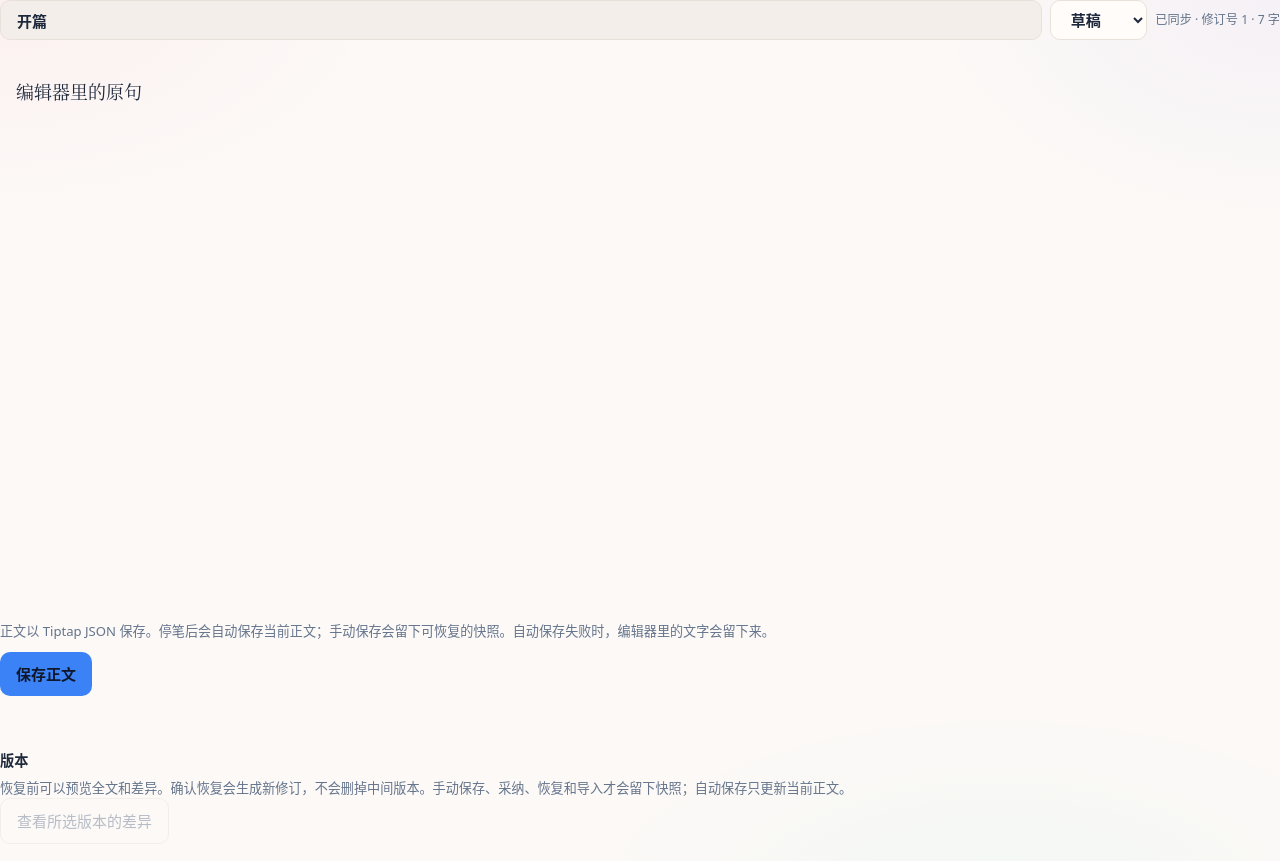
Test: ChapterEditor › keeps the local draft and compares it when autosave conflicts
The image size is (1280, 861).
Replace the text in the field named "章节标题" with "本地标题" at (521, 20), box [0, 0, 1042, 40]
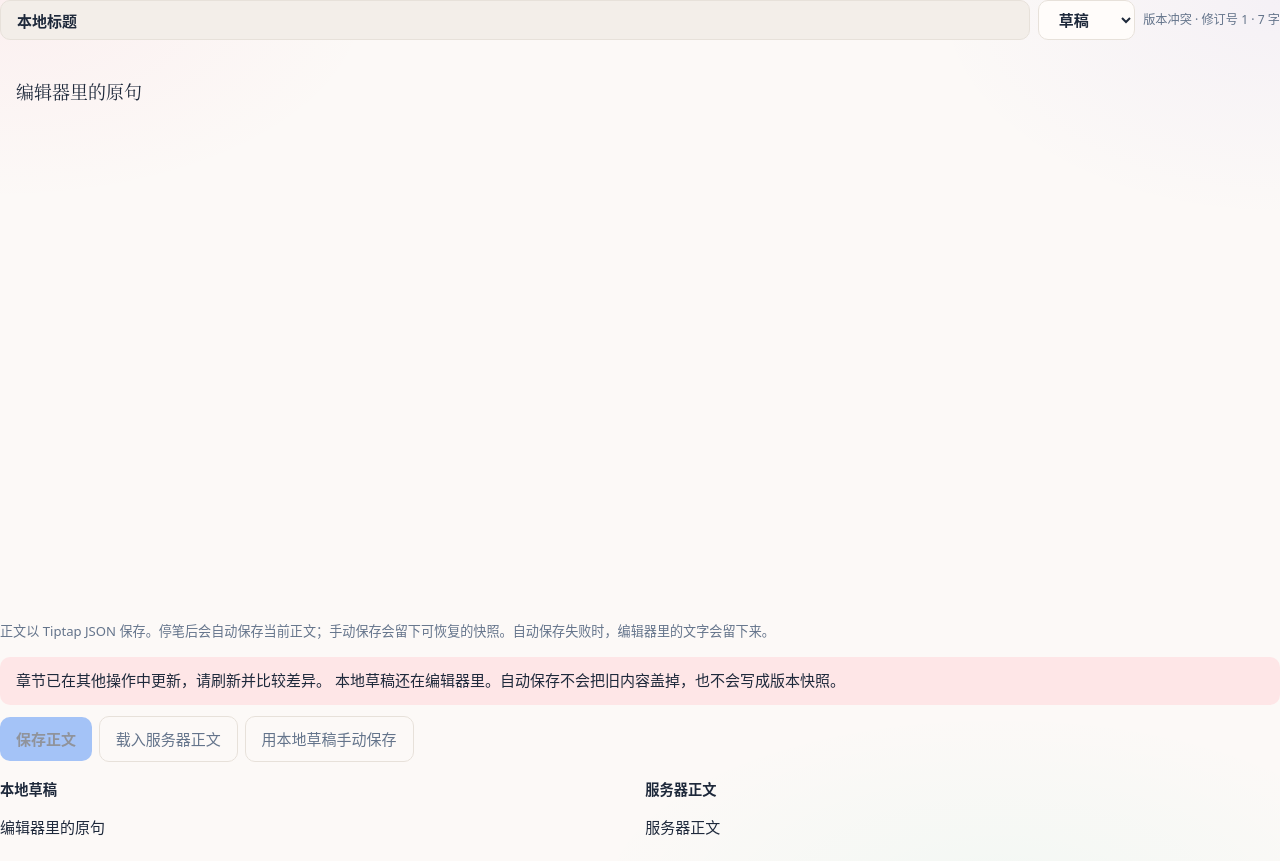
Expected: the field named "正文" reads "编辑器里的原句", [16, 78, 142, 104]
Now the message "章节已在其他操作中更新，请刷新并比较差异。 本地草稿还在编辑器里。自动保存不会把旧内容盖掉，也不会写成版本快照。" is shown, box [0, 657, 1279, 705]
Now the heading "服务器正文" is shown, box [645, 780, 717, 799]
Click the button "用本地草稿手动保存" at (329, 739), box [244, 716, 414, 762]
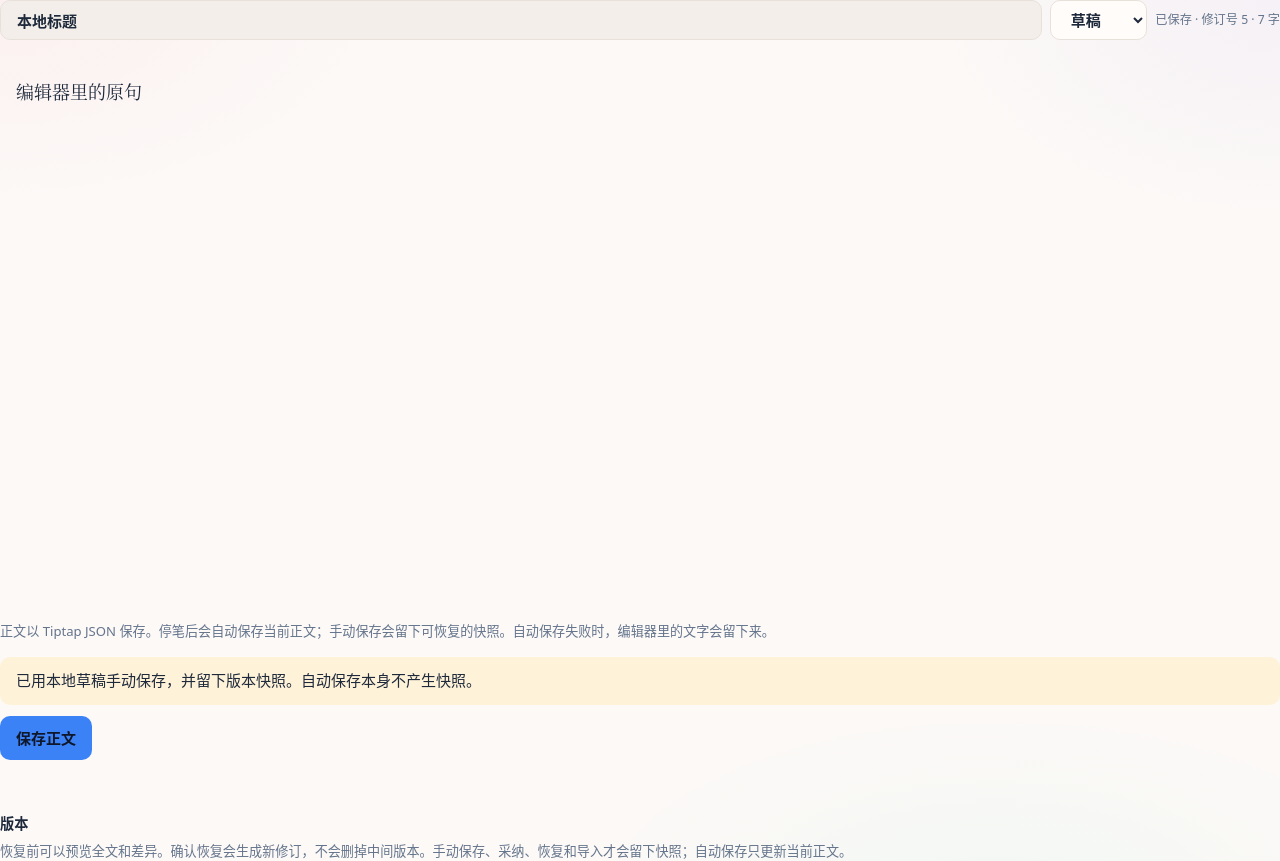
Now the text "已用本地草稿手动保存，并留下版本快照。自动保存本身不产生快照。" is shown, box [0, 657, 1279, 705]
